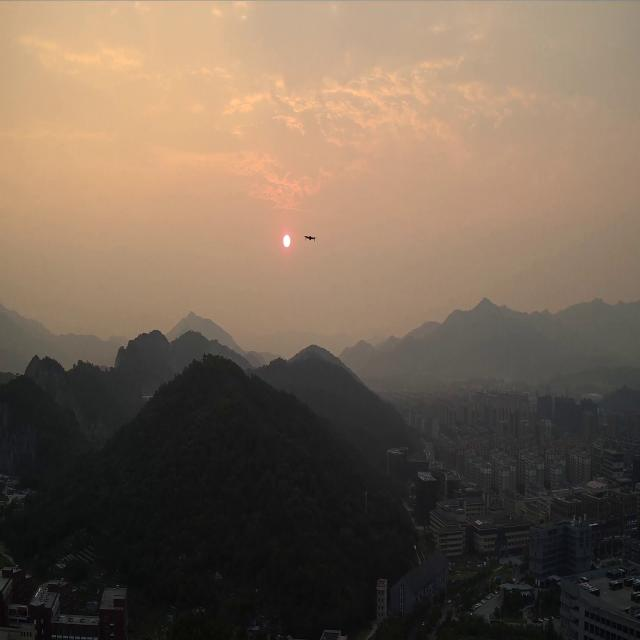drone: (303, 233, 318, 242)
